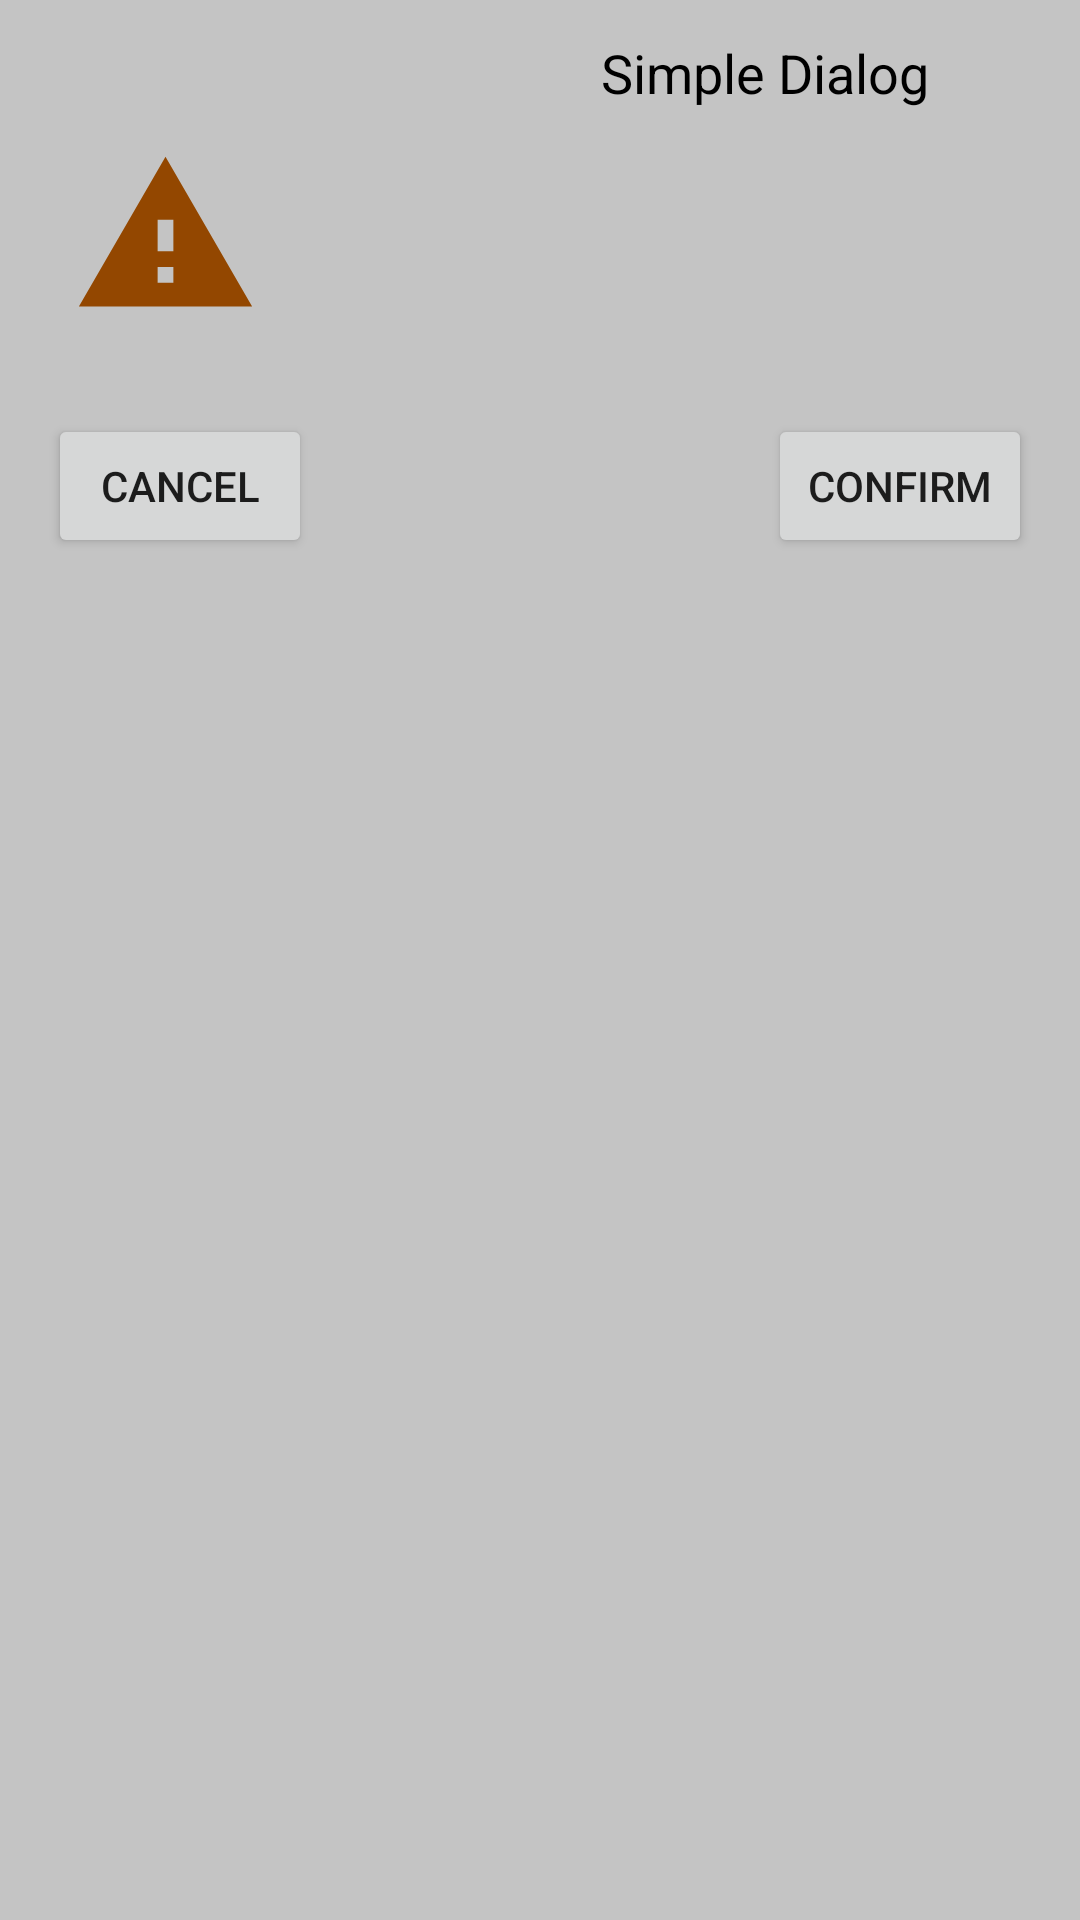

Icon bounding boxes for this 1080px x 1920px phone screenshot, format (x1, y1, x2, y2):
warning: (79, 157, 252, 307)
